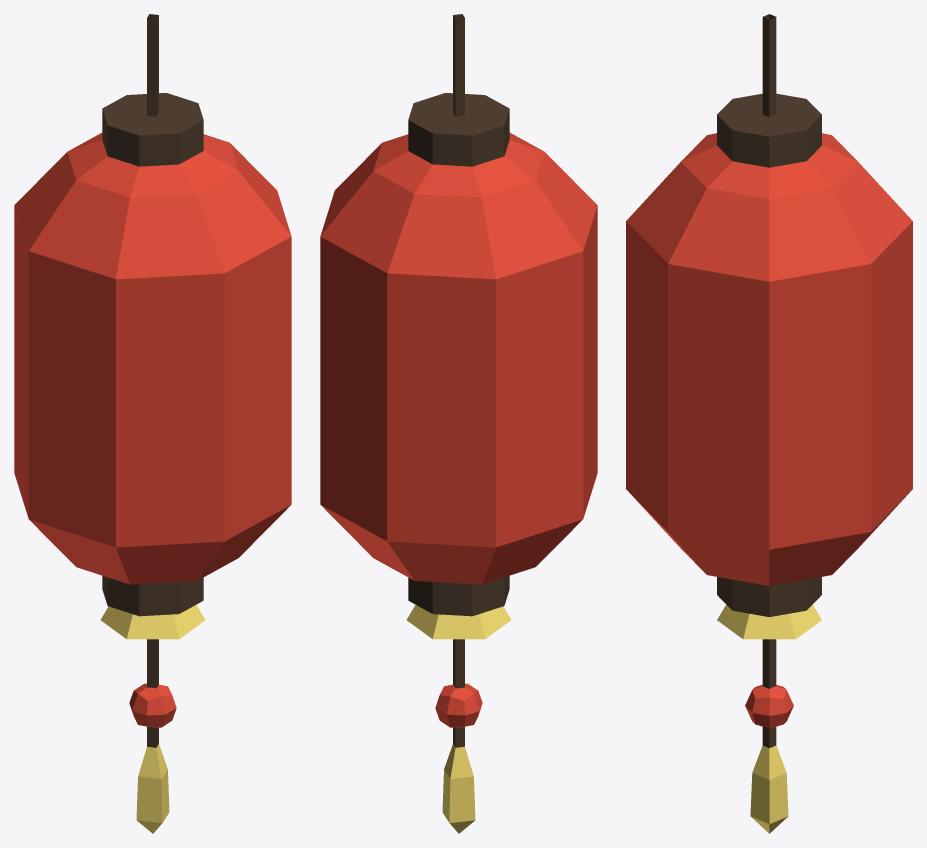
The model's file is japan_lantern-long.fbx.
3 views of the same model, side by side, from view 1: azimuth 30°, elevation 25°; view 2: azimuth 150°, elevation 25°; view 3: azimuth 270°, elevation 25° (orthographic).
Visible parts, largest first — view 1: japan_lantern_long; view 2: japan_lantern_long; view 3: japan_lantern_long.
Part boxes in pixels (<box>): japan_lantern_long: <box>14,14,291,833</box>; japan_lantern_long: <box>320,14,597,833</box>; japan_lantern_long: <box>626,14,912,833</box>.
Size of the model in its own units: 63.63 by 200 by 63.63.
